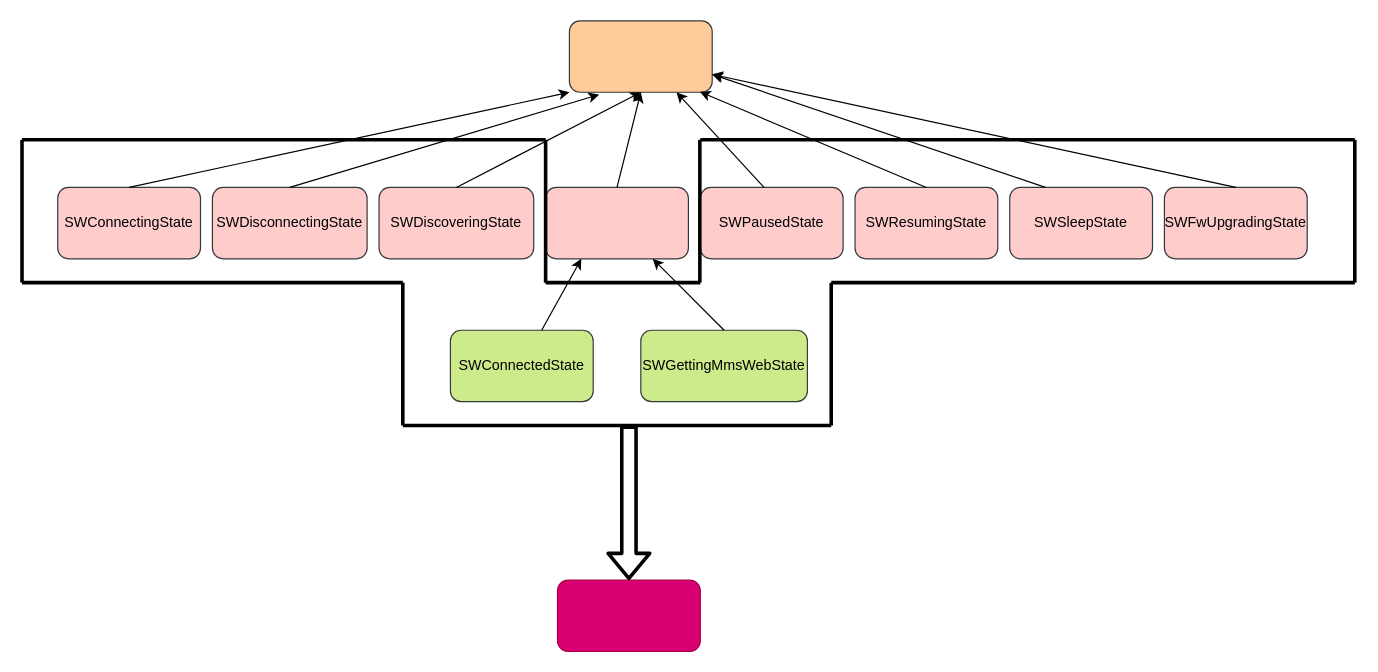
The diagram is 1378 pixels wide and 672 high, and some of its shapes have lost their labels. Each missing label, with the centre of its shape:
"StatesFactory" goes at (x=628, y=615).
"SWBaseMmsUpdate" goes at (x=616, y=222).
"SWBaseState" goes at (x=640, y=56).
